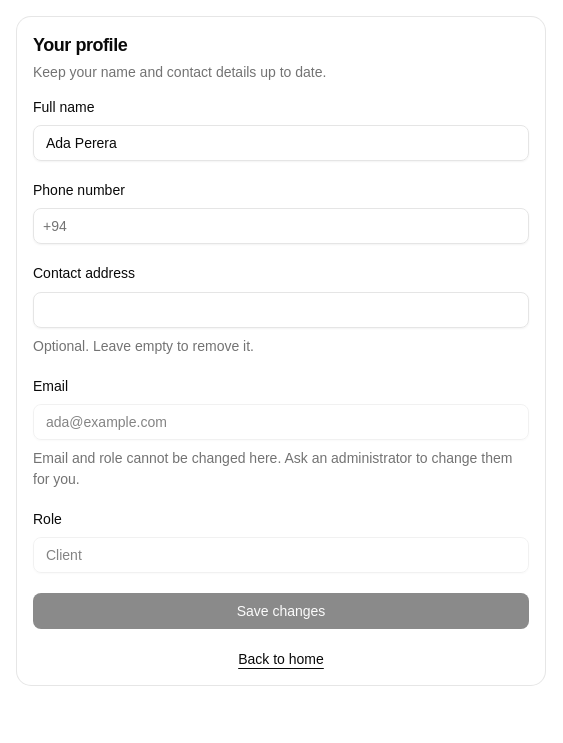
Scenario: ProfilePage › allows a legacy account with no contact details to edit its name
Check: the field labelled "Phone number" is empty, box [33,208,529,244]
Check: the text "+94" is shown, box [43,218,67,234]
Step 1. Replace the text in the field labelled "Full name" with "Ada Silva" → (281, 143), box [33,125,529,161]
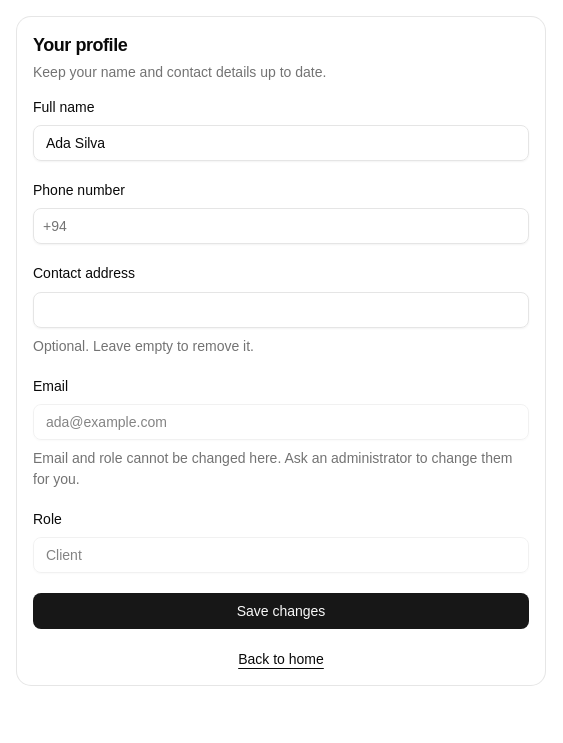
Step 2. Click the button "Save changes" → (281, 611), box [33,593,529,629]
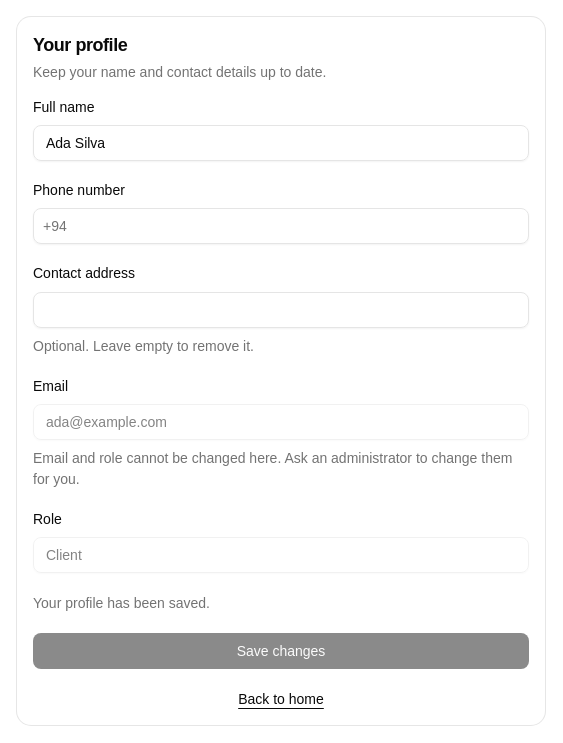
Check: the message "Your profile has been saved." is shown, box [33,595,210,611]
